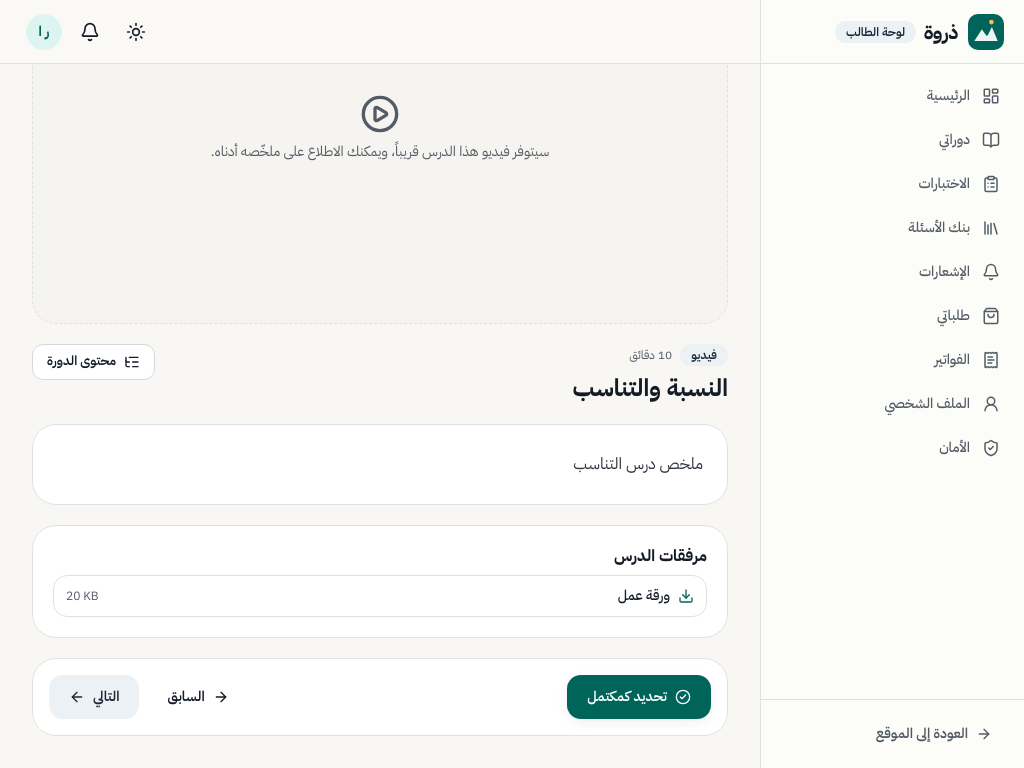
Test: course player and lessons › renders a lesson and marks it complete
(page scrolled)
Expected: the heading "النسبة والتناسب" is shown, [572,372,728,404]
Expected: the text "ملخص درس التناسب" is shown, [573,452,703,476]
Click the button "تحديد كمكتمل" at (639, 697), box [567,675,711,719]
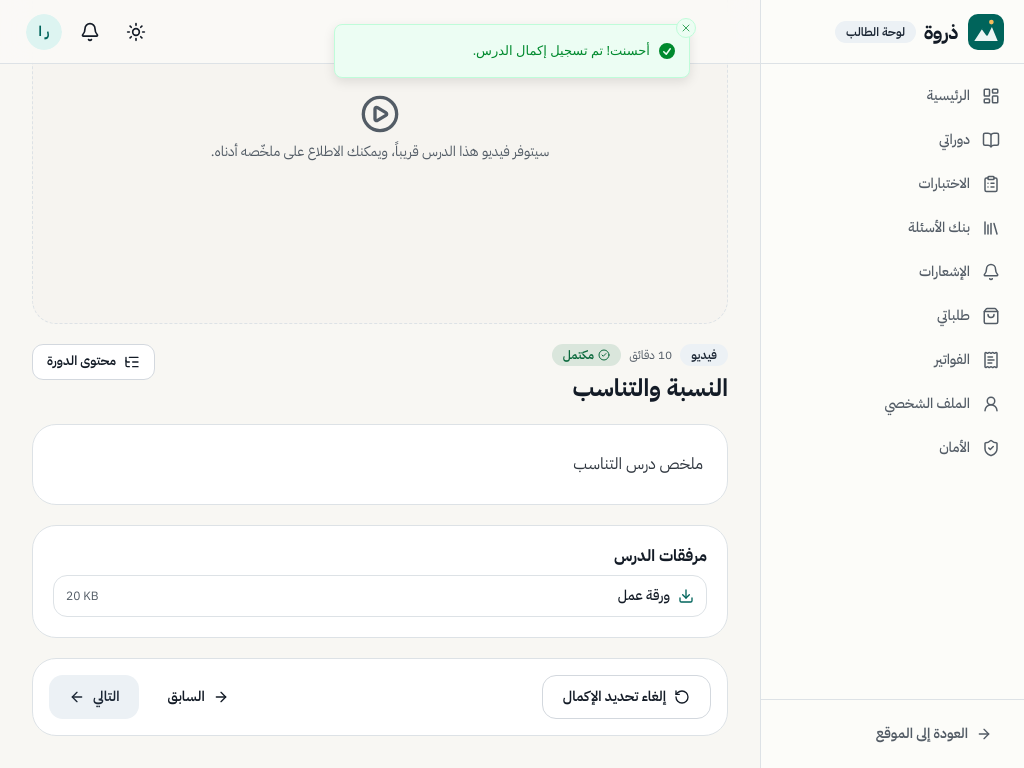
Expected: the button "إلغاء تحديد الإكمال" is shown, [542,675,711,719]
